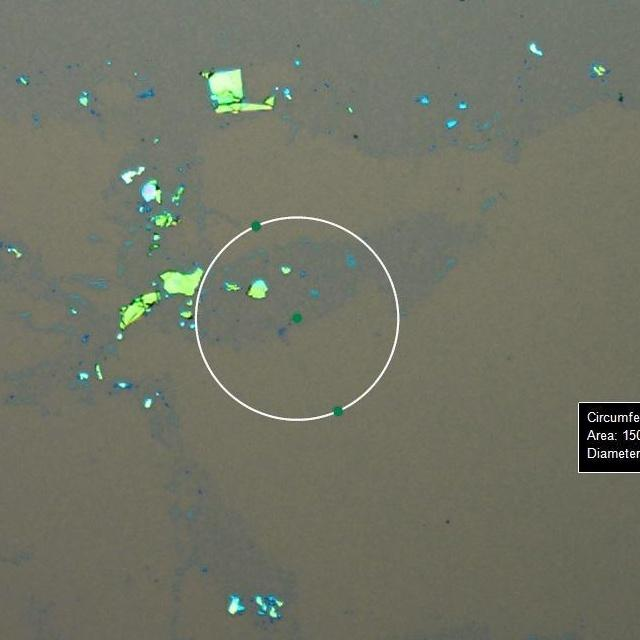monolayer-eWW4: (277, 326, 286, 336)
